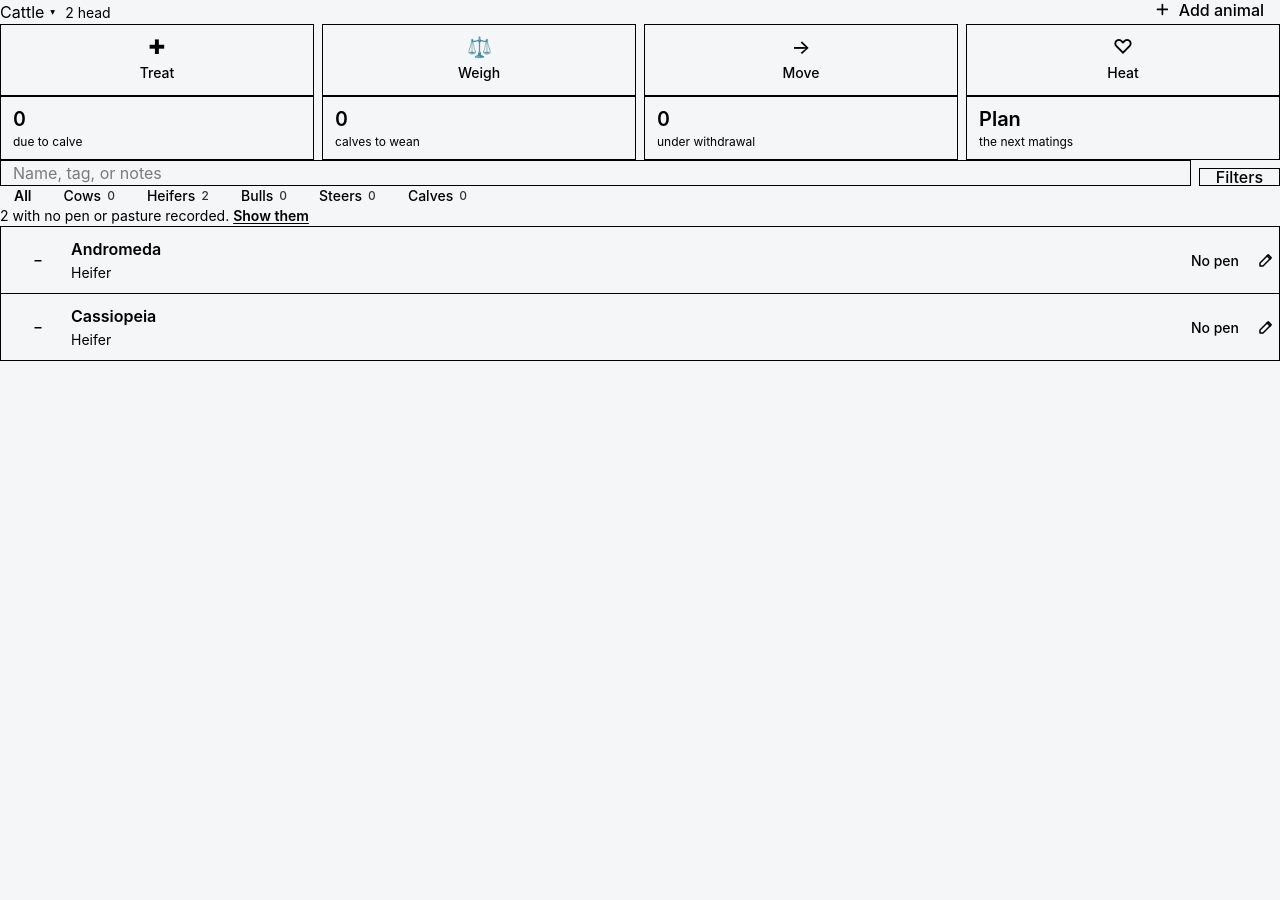
Test: the breed filter › narrows the herd to one breed rather than throwing
Check: the link "– Andromeda Heifer No pen" is shown, box [1,227,1257,293]
Check: the link "– Cassiopeia Heifer No pen" is shown, box [1,294,1257,360]
Click the button "Filters": (1239, 177) [1199,168,1279,186]
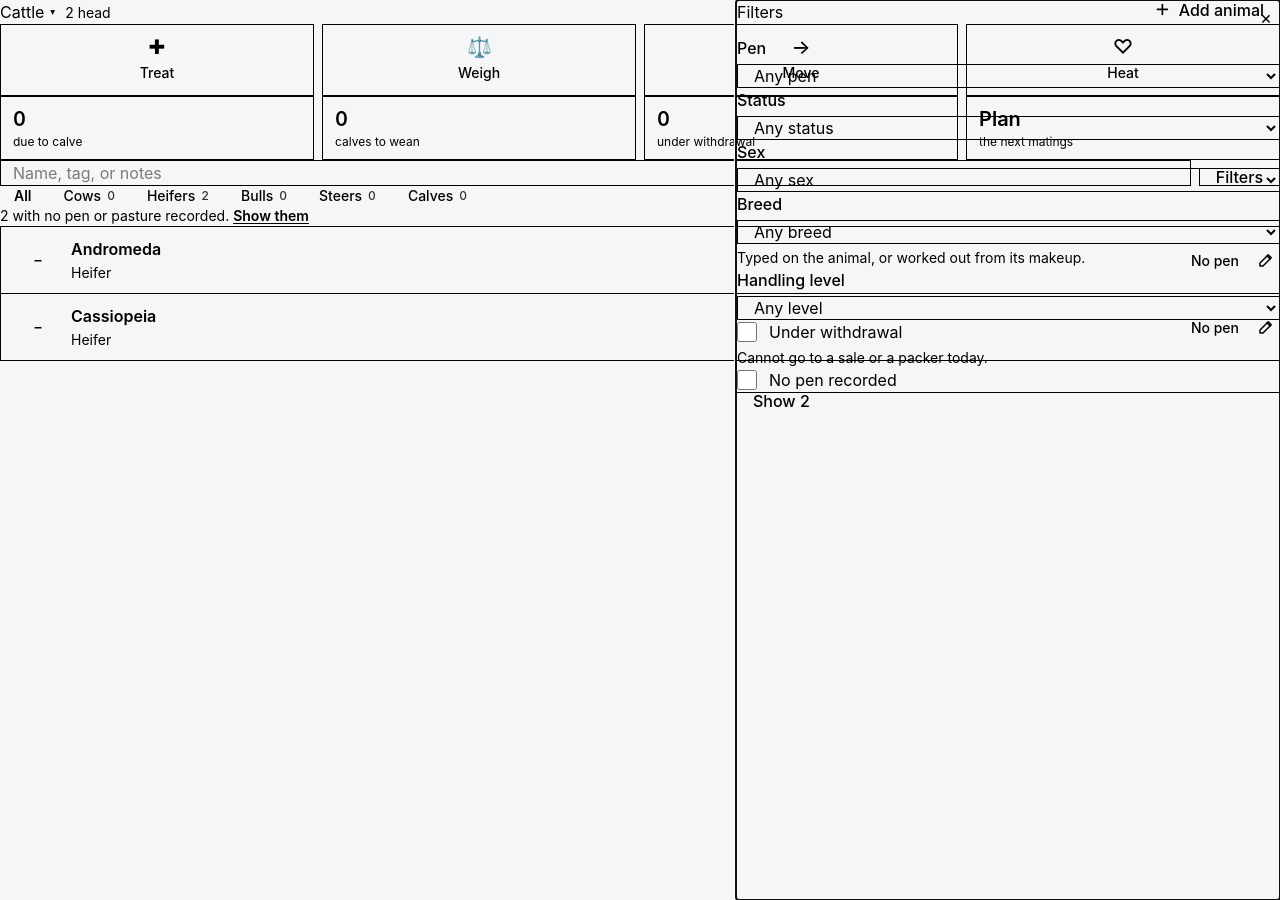
Select "Maine-Anjou" in the dropdown labelled "Breed": (1008, 232) [737,220,1279,244]
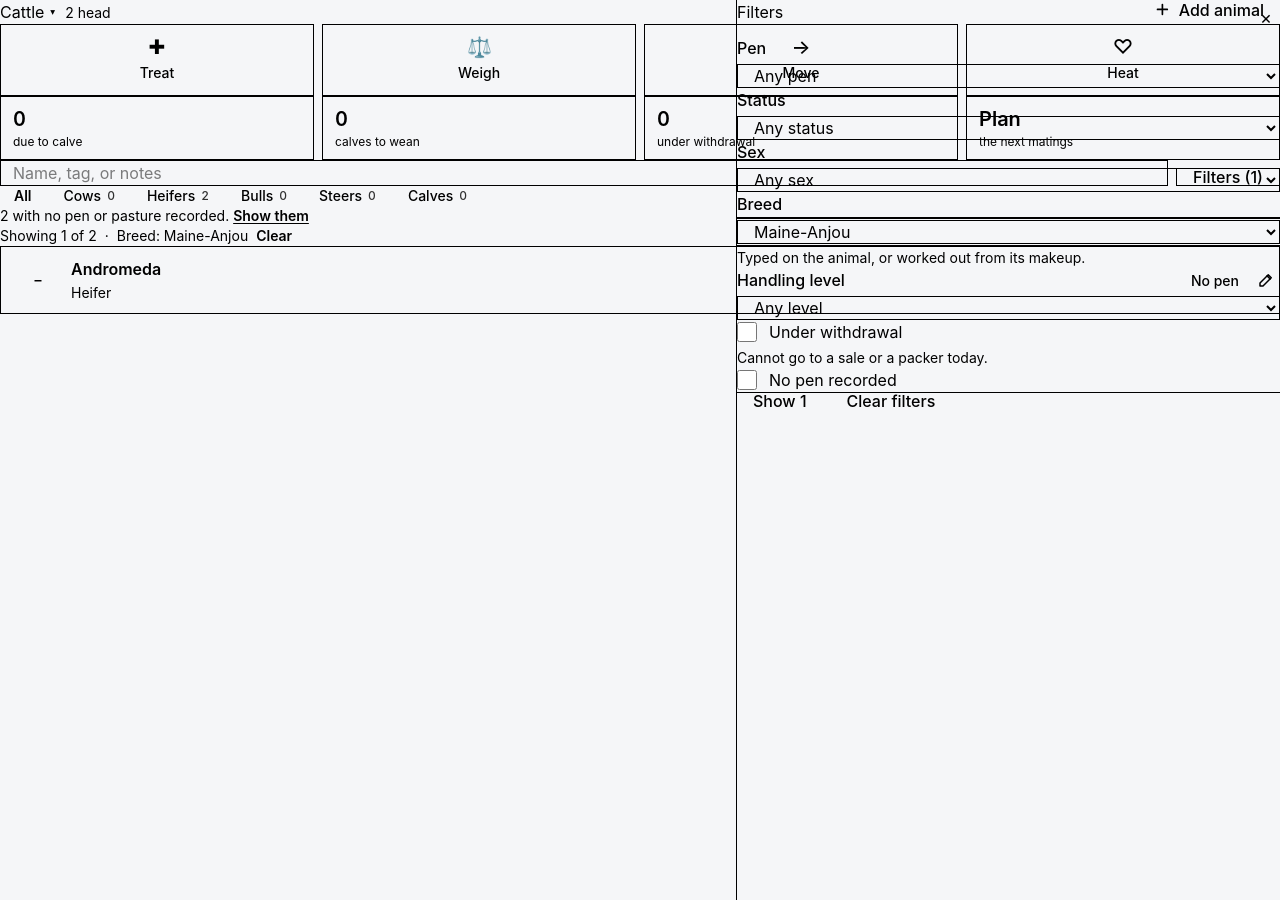
Check: the link "– Andromeda Heifer No pen" is shown, box [1,247,1257,313]
Check: the link "Cassiopeia" is gone
Check: the text "Showing 1 of 2" is shown, box [0,226,97,246]
